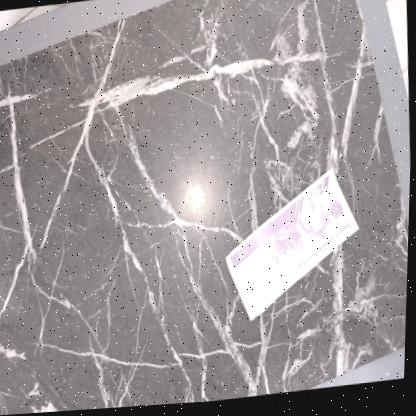one_hundred-back-vef: (221, 167, 366, 328)
